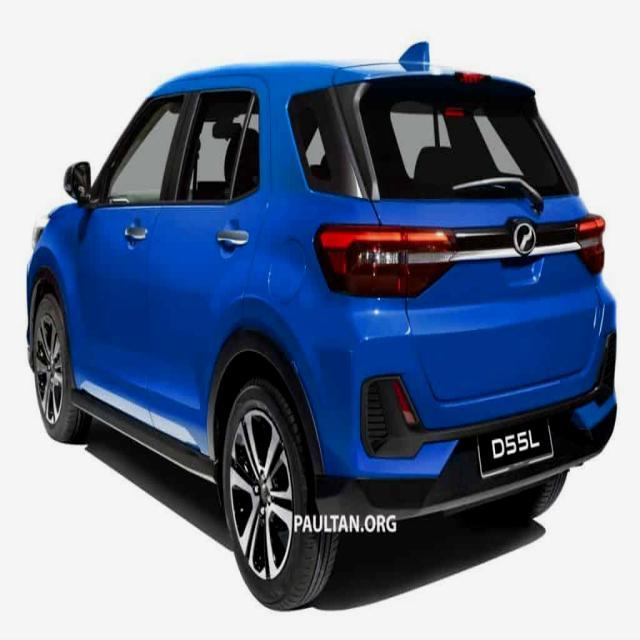PeroduaAtiva: (24, 40, 619, 611)
